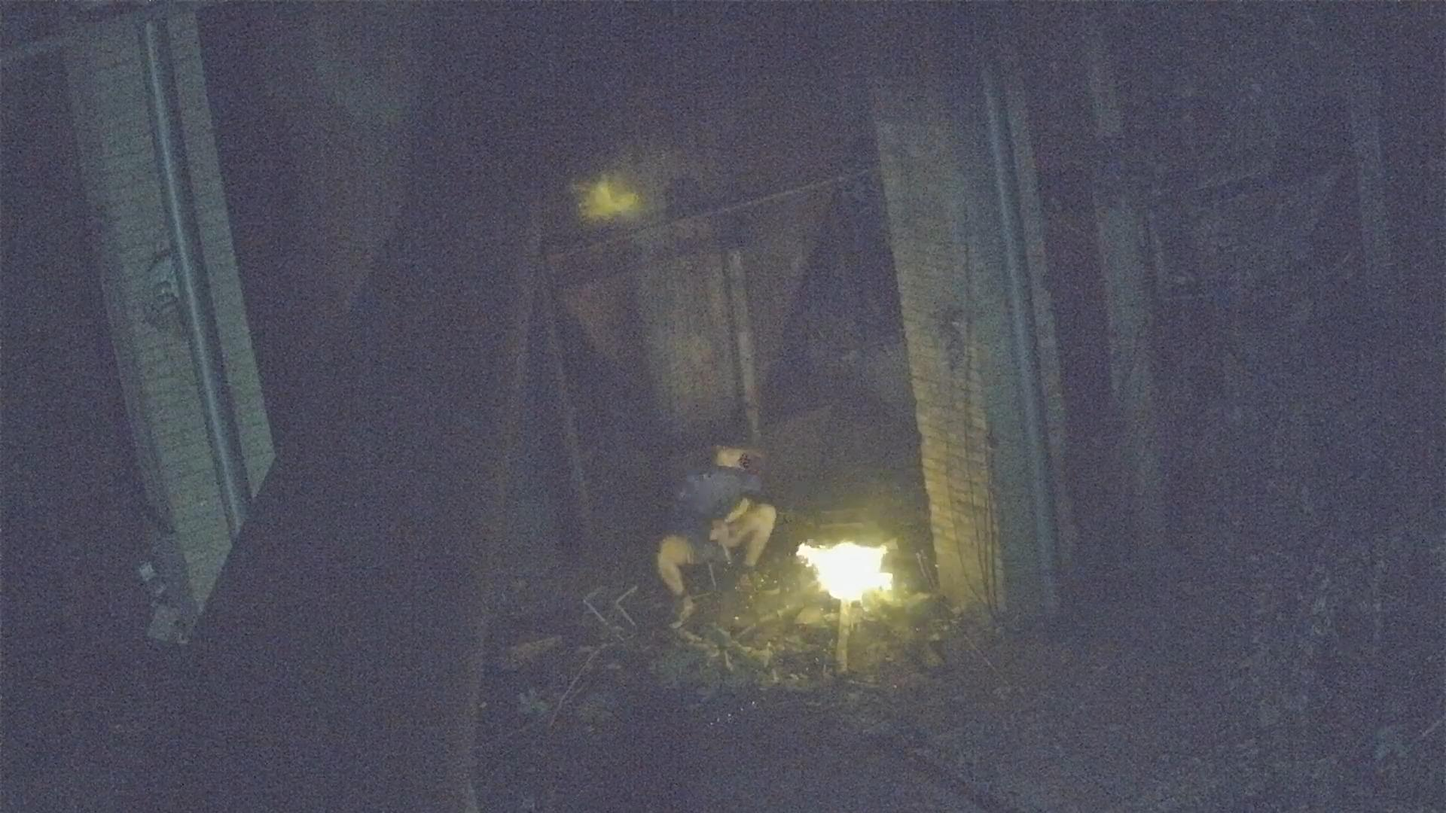fire: (797, 542, 891, 601)
